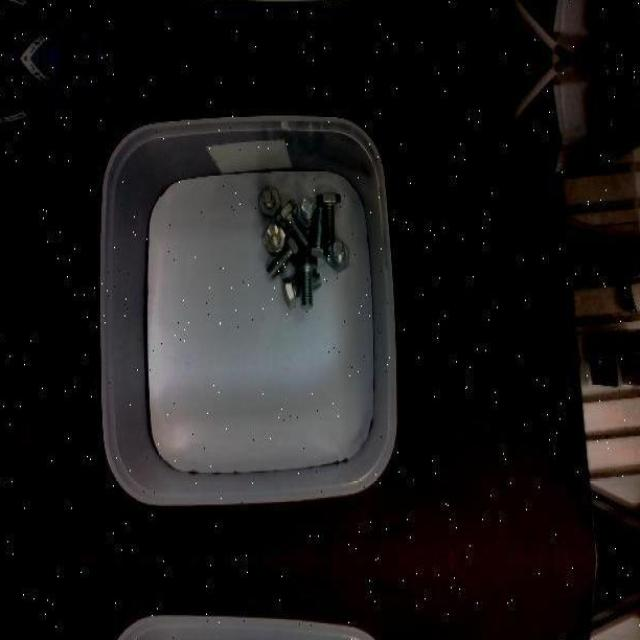screw: (317, 192, 342, 244), (295, 254, 318, 310), (328, 240, 350, 272), (262, 222, 284, 252), (260, 186, 282, 216)
